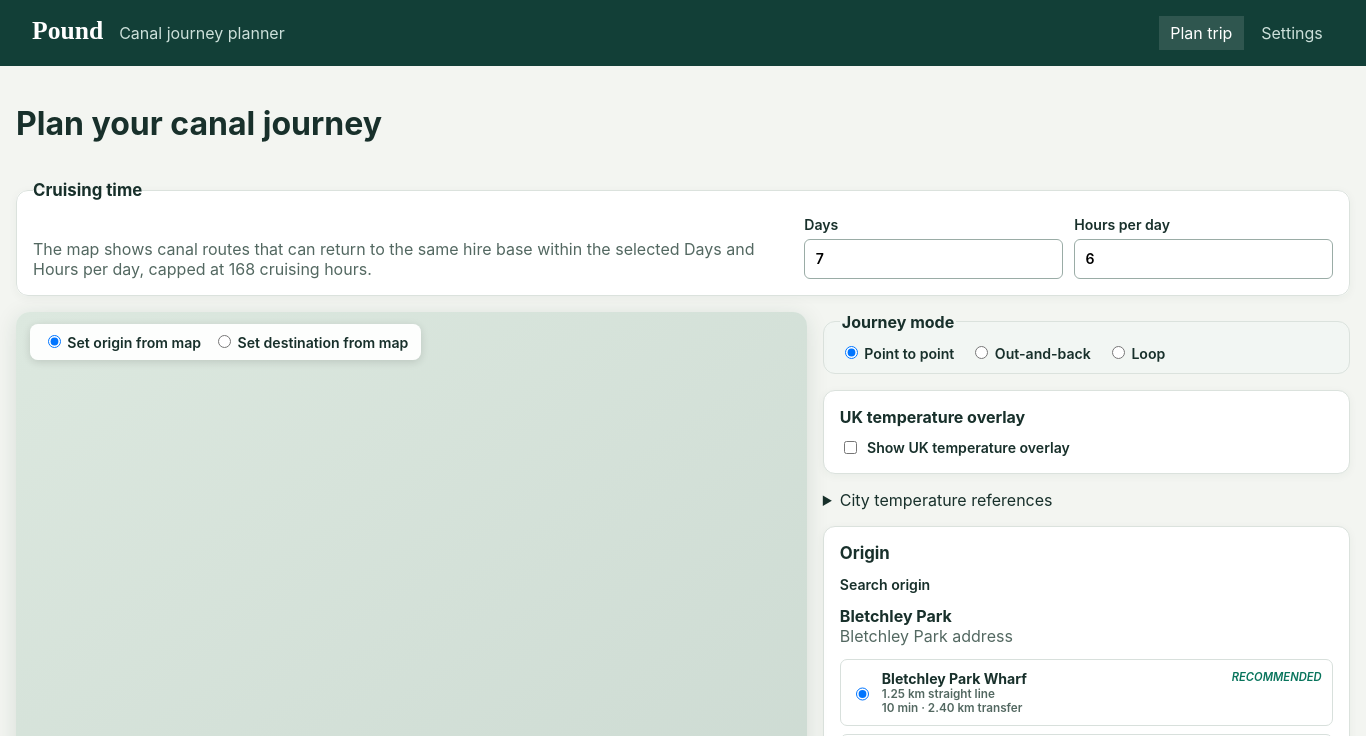
Scenario: trip planning interface › blocks invalid hours per day
Clear the number field labelled "Hours per day" at (1204,259), box x1=1074 y1=239 x2=1333 y2=279
(page scrolled)
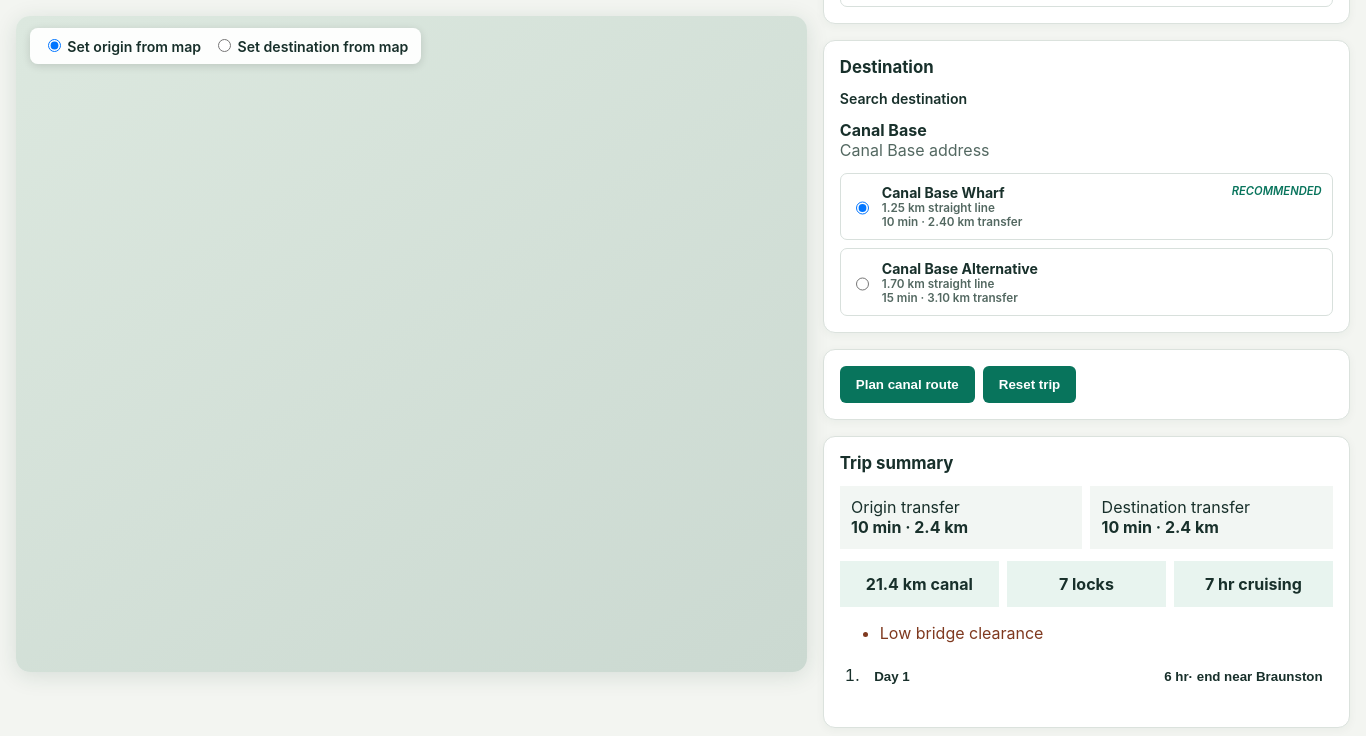
Click the button "Plan canal route" at (907,385), box x1=840 y1=366 x2=975 y2=404
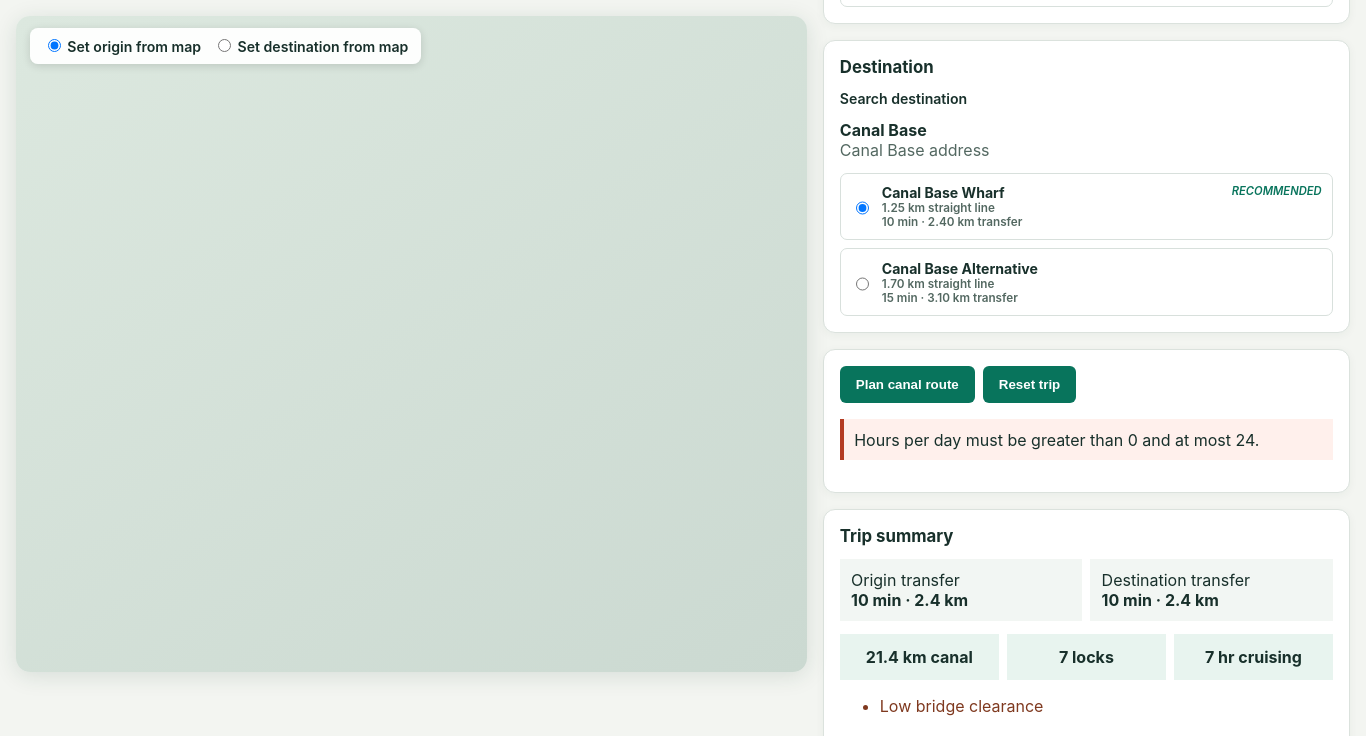
Expected: the message reads "Hours per day must be greater than 0 and at most 24.", x1=854 y1=430 x2=1259 y2=450
